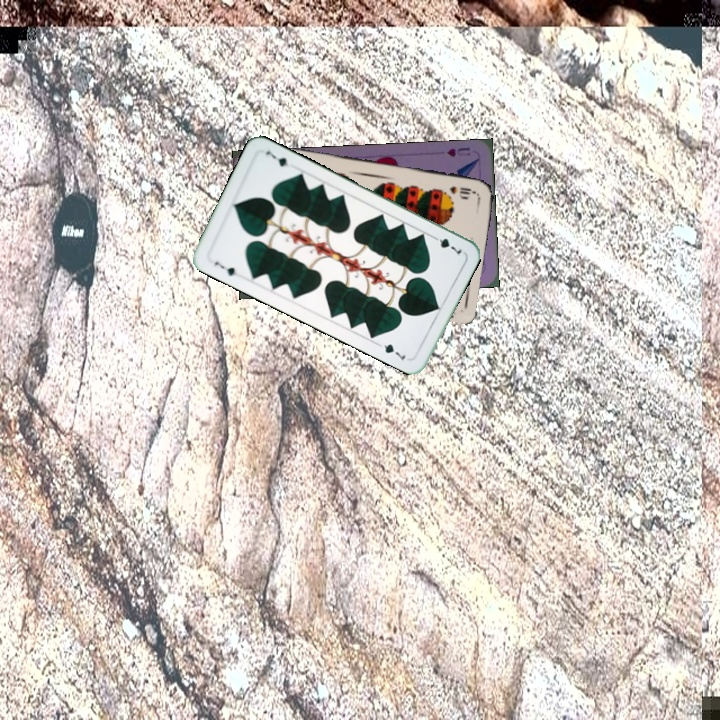G7: (428, 232, 465, 257), (210, 257, 242, 280)
HU: (442, 143, 473, 159)
S10: (446, 182, 478, 197)
